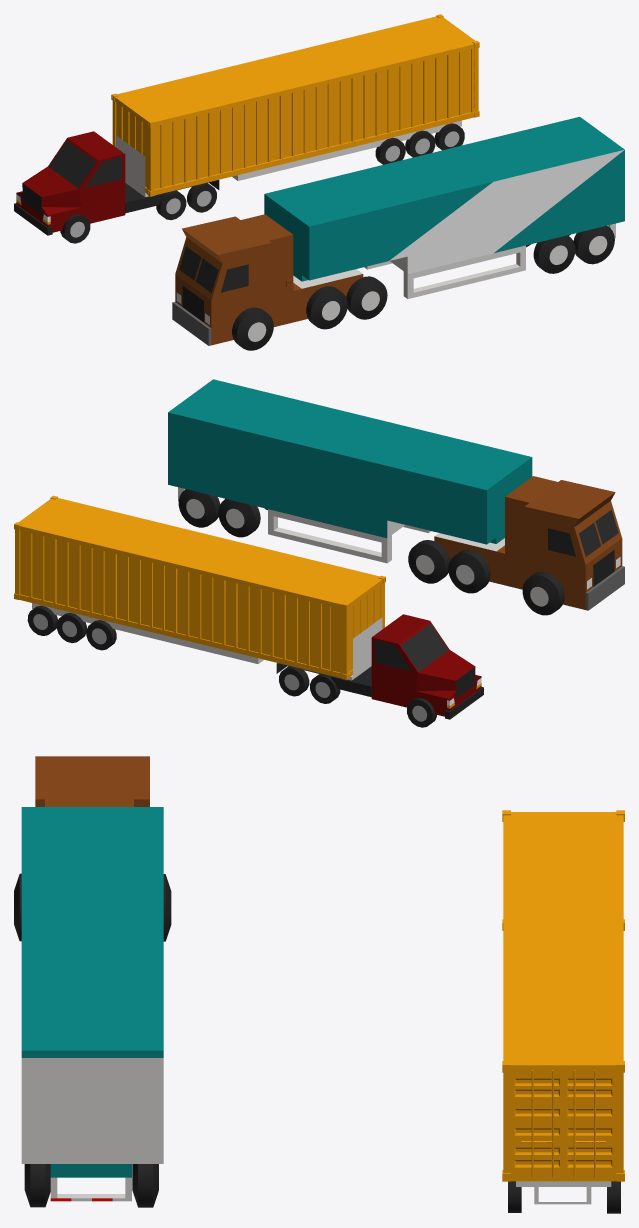
The model's file is trailers.fbx.
3 views of the same model, one above another, from view 1: azimuth 30°, elevation 25°; view 2: azimuth 150°, elevation 25°; view 3: azimuth 270°, elevation 25° (orthographic). The views are drawn at different scales.
Parts seen in each view (by area): view 1: Semi truck and trailer_001, Shipping container 40'_001, Large grip delivery truck_001, Group_002, TireSemi_001, TireSemi_007, TireSemi_002, TireSemi_010, TireSemi_003, Group_001, SUV tire#1_010, SUV tire#1_008 (+4 smaller); view 2: Semi truck and trailer_001, Shipping container 40'_001, Large grip delivery truck_001, Group_002, TireSemi_006, TireSemi_008, TireSemi_004, TireSemi_009, TireSemi_005, Group_001, SUV tire#1_011, SUV tire#1_003 (+4 smaller); view 3: Semi truck and trailer_001, Shipping container 40'_001, TireSemi_005, TireSemi_003, Group_002.
Boxes of the visible parts, x1,y1,x2,y2 form: Semi truck and trailer_001: [172, 117, 624, 345]; Shipping container 40'_001: [111, 14, 479, 196]; Large grip delivery truck_001: [14, 131, 125, 235]; Group_002: [116, 120, 461, 197]; TireSemi_001: [232, 307, 273, 350]; TireSemi_007: [306, 286, 347, 329]; TireSemi_002: [346, 276, 387, 319]; TireSemi_010: [533, 235, 575, 273]; TireSemi_003: [573, 225, 614, 264]; Group_001: [125, 180, 219, 213]; SUV tire#1_010: [187, 183, 216, 212]; SUV tire#1_008: [60, 214, 90, 243]; Semi truck and trailer_001: [168, 379, 624, 610]; Shipping container 40'_001: [14, 495, 385, 679]; Large grip delivery truck_001: [371, 614, 483, 719]; Group_002: [32, 603, 382, 680]; TireSemi_006: [522, 571, 564, 615]; TireSemi_008: [448, 549, 490, 593]; TireSemi_004: [408, 540, 449, 583]; TireSemi_009: [218, 499, 260, 537]; TireSemi_005: [178, 489, 220, 527]; Group_001: [276, 663, 371, 696]; SUV tire#1_011: [279, 666, 309, 696]; SUV tire#1_003: [86, 620, 116, 650]; Semi truck and trailer_001: [21, 756, 163, 1201]; Shipping container 40'_001: [502, 810, 624, 1181]; TireSemi_005: [132, 1164, 158, 1207]; TireSemi_003: [24, 1164, 50, 1207]; Group_002: [516, 1181, 611, 1204].
Size of the model in its own units: 15917 by 3917 by 12387.
